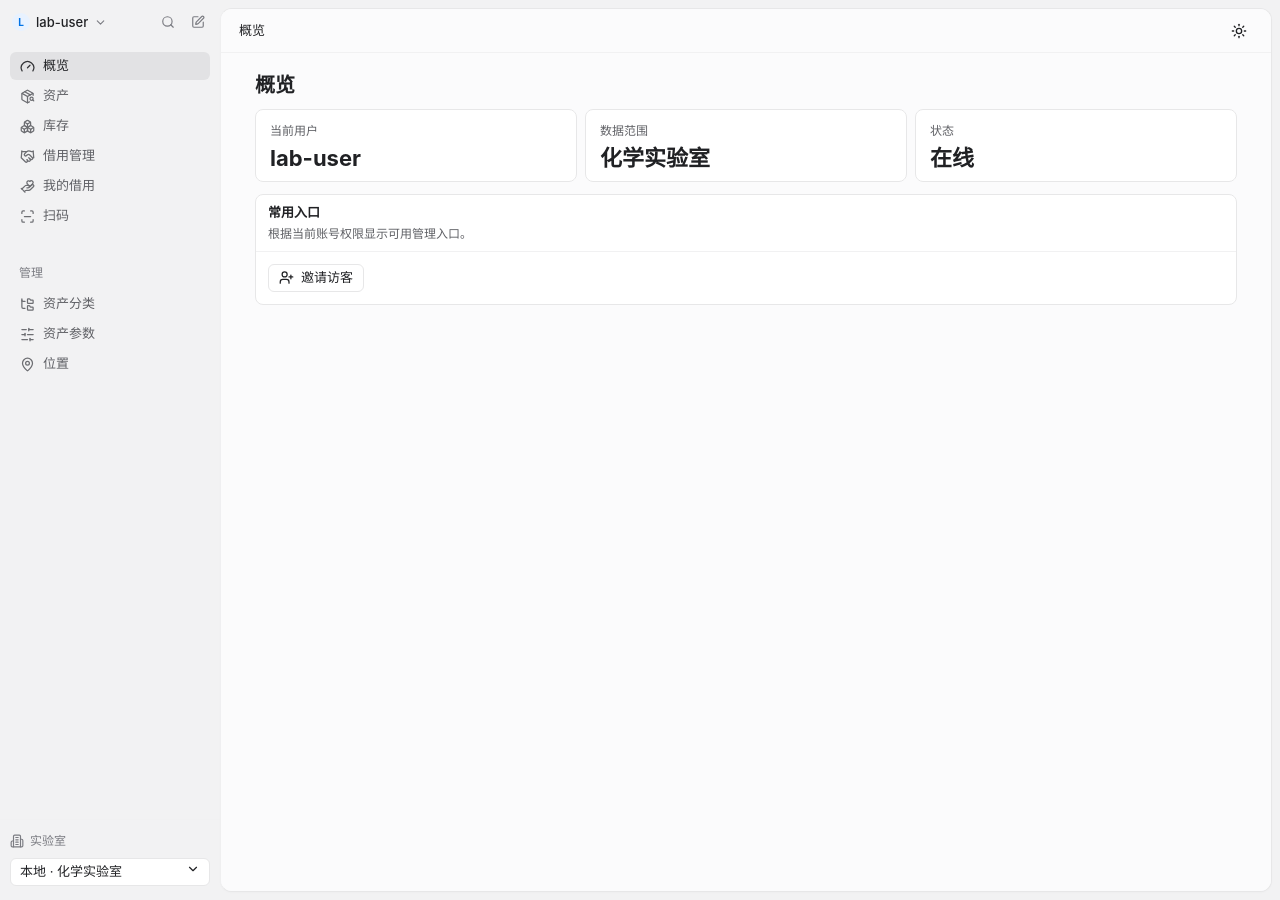
Test: CommandMenu › hides commands the current role cannot reach
Check: the heading "概览" is shown, box x1=255 y1=73 x2=295 y2=97
Click the button named "搜索": (168, 22) x1=154 y1=8 x2=182 y2=36
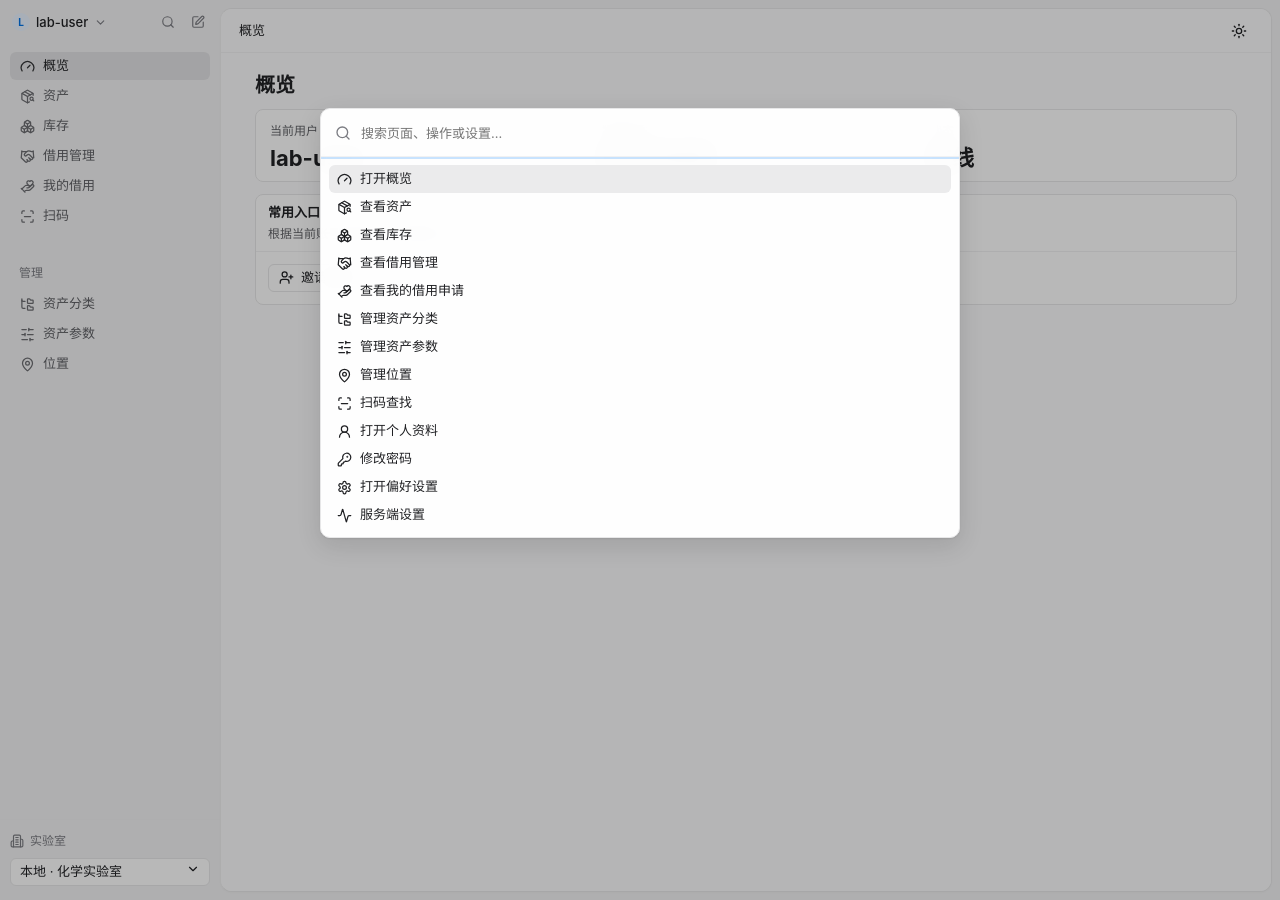
Check: the option "查看资产" is shown, box x1=337 y1=198 x2=412 y2=215
